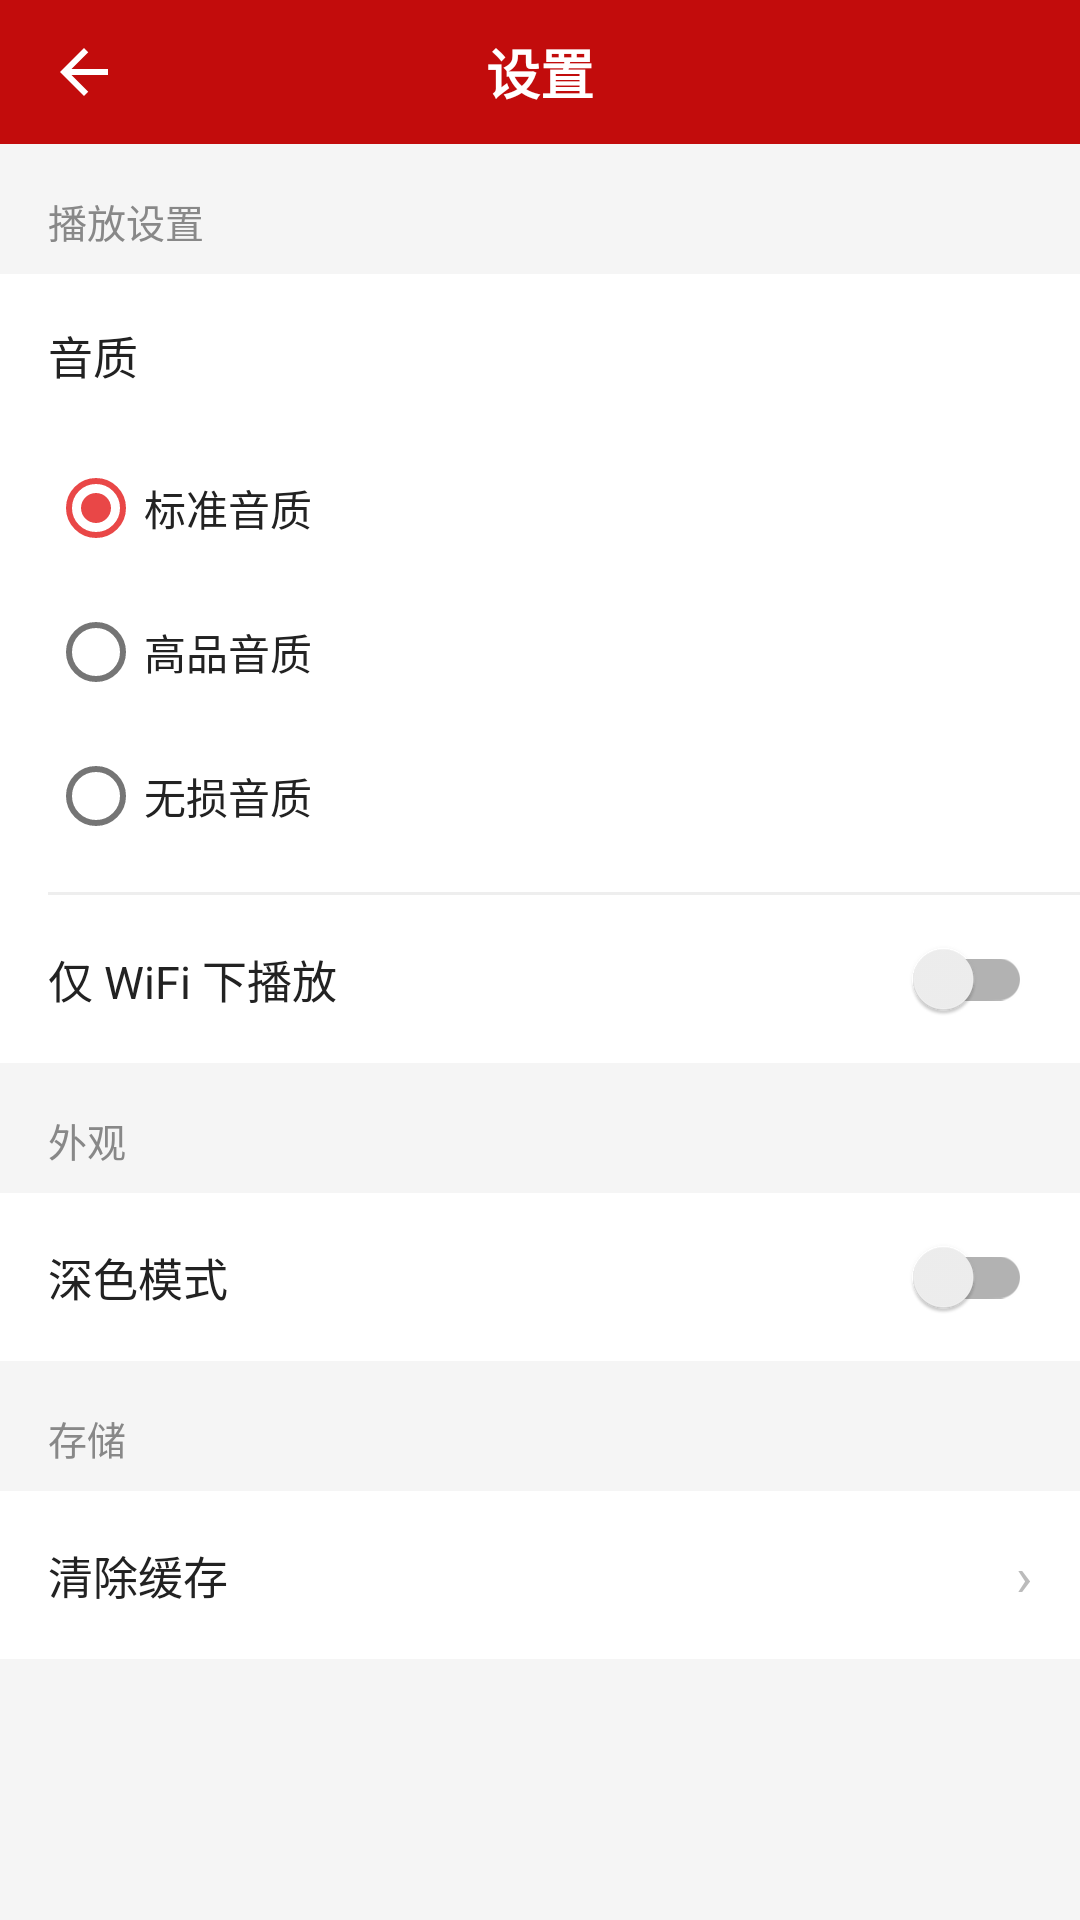

Screen size 1080px x 1920px. Icon name, then its center in pixels as point (x, y):
返回: point (84, 72)
